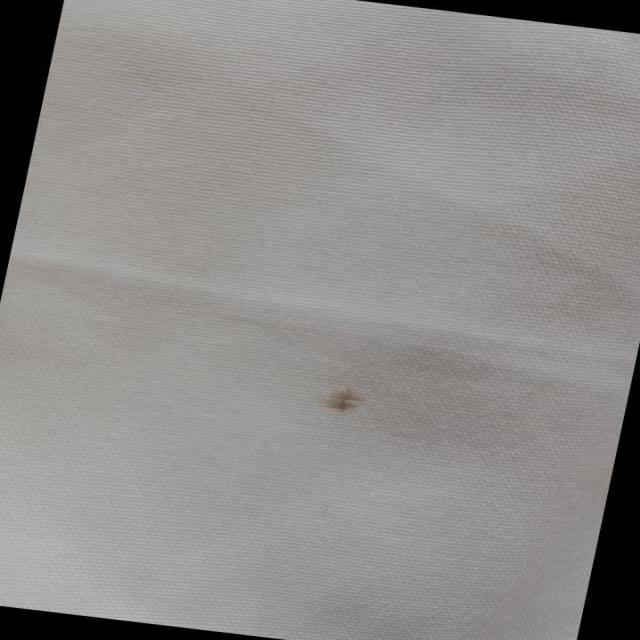stain: (308, 374, 381, 425)
